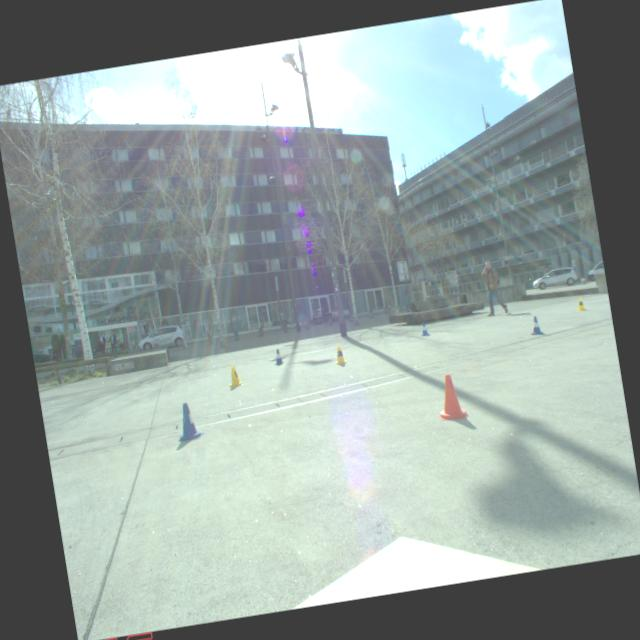blue_cone: (172, 400, 205, 443), (528, 316, 544, 336), (274, 348, 284, 366), (420, 322, 430, 336)
orange_cone: (433, 372, 468, 422)
yellow_cone: (226, 364, 243, 388), (333, 344, 347, 366), (576, 296, 586, 312)
